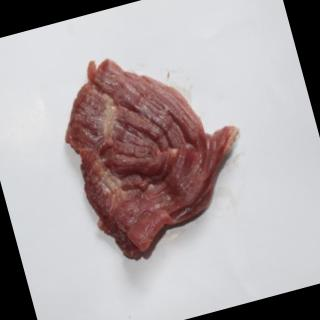Daging Sapi: (49, 30, 265, 271)
